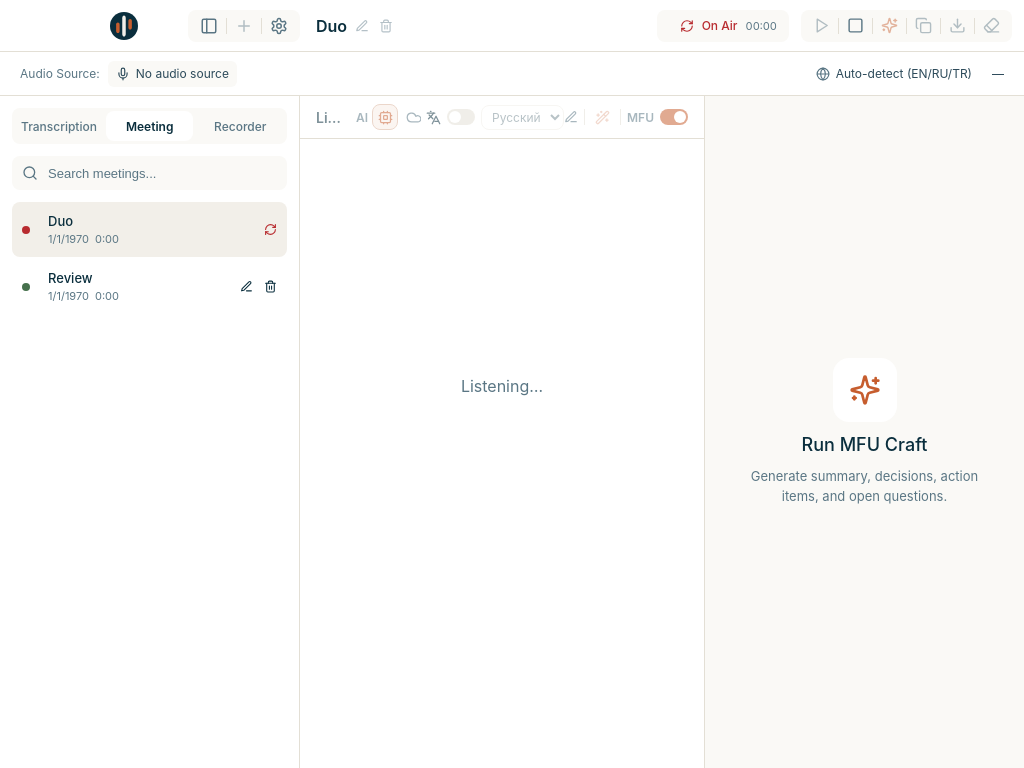
Test: StreamingView › keeps live-capture identity on session A when the user opens stopped session B
Expected: the message shows "On Air", [702, 18, 738, 33]
Click the button with aria-label "Open Review": (132, 286) [42, 269, 223, 304]
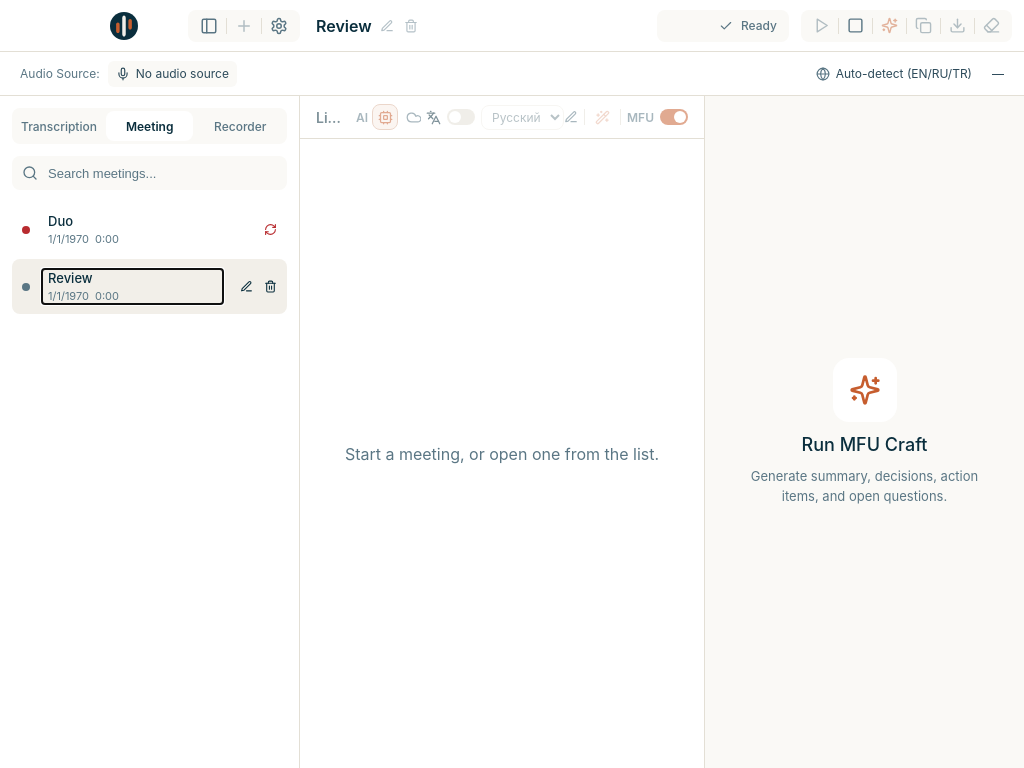
Expected: the heading "Review" is shown, [316, 16, 372, 36]
Expected: the message reads "Ready", [741, 18, 777, 33]
